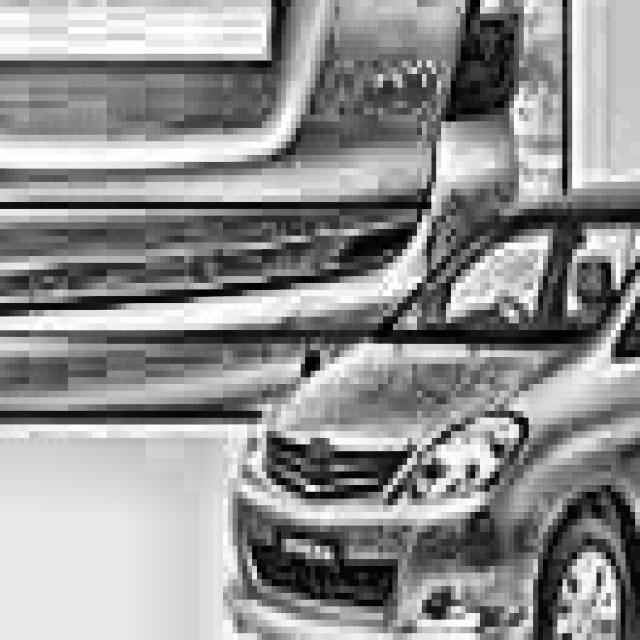light_vehicle: (0, 0, 528, 411), (223, 175, 640, 640)
